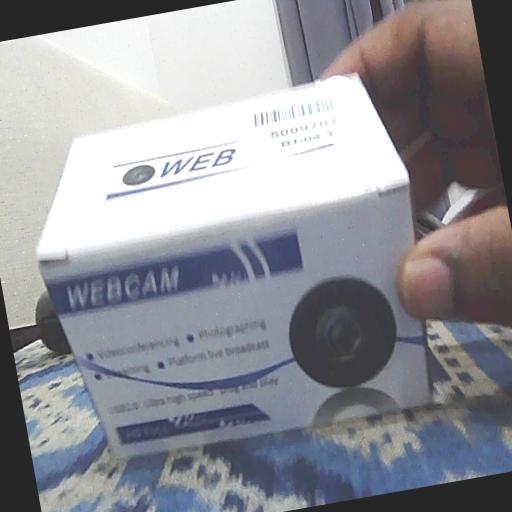webcam_box: (13, 66, 450, 472)
